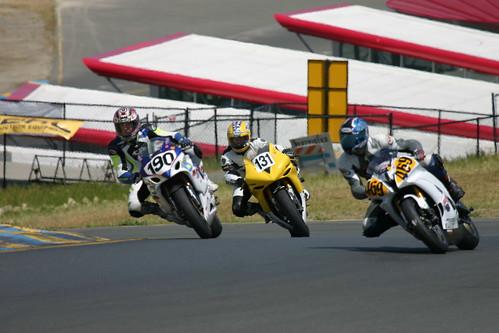helmet: (331, 112, 370, 149), (219, 115, 249, 150), (111, 101, 138, 138)
